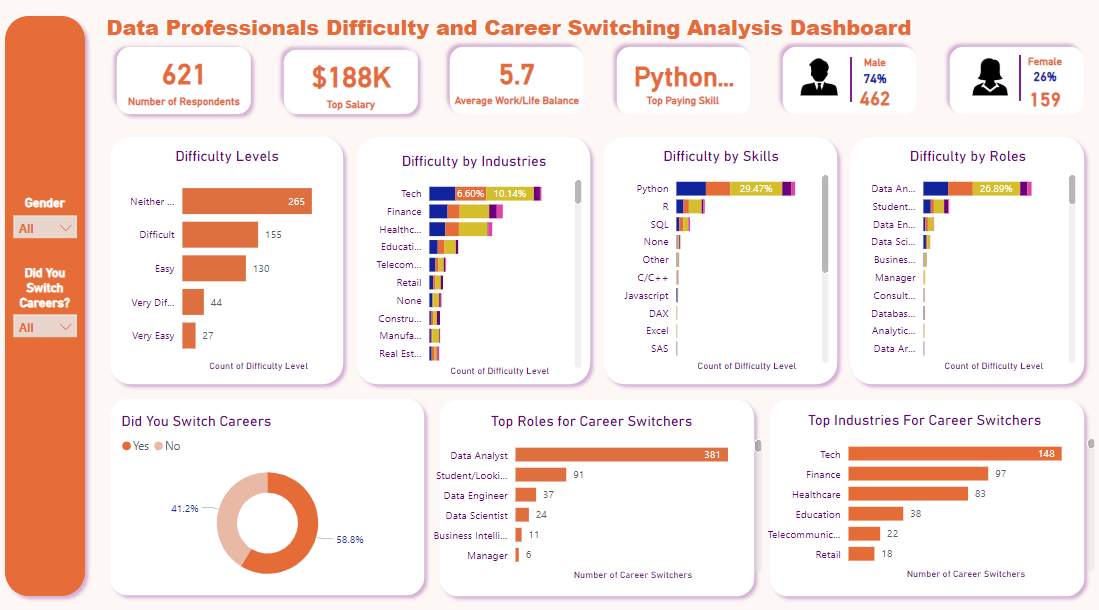

This screenshot's page, from the dashboard's own definition file:
{"tool":"powerbi","page":{"name":"Difficulty and Career Switching Analysis","canvas":[1280,720],"ordinal":2},"visuals":[{"type":"shape","box":[0,15,111.1,689.9],"z":0},{"type":"shape","box":[121.5,155.1,288.2,304.4],"z":1000},{"type":"shape","box":[121.5,458.4,382,245.4],"z":2000},{"type":"textbox","box":[121.5,15,955,44],"z":3000},{"type":"shape","box":[503.5,459.5,382,245.4],"z":4000},{"type":"shape","box":[885.5,459.5,382,245.4],"z":5000},{"type":"group","id":"g1","title":"Group 2","box":[130.2,50.8,173.2,96],"z":6000},{"type":"group","id":"g2","title":"Group 2","box":[322.9,50.8,173.2,96],"z":7000},{"type":"shape","box":[515.6,50.8,173.2,96.4],"z":8000},{"type":"shape","box":[708.4,50.8,173.2,96.4],"z":9000},{"type":"textbox","box":[139.3,108.1,155,37.8],"z":9000,"group":"g3"},{"type":"shape","box":[901.1,50.8,173.2,96.4],"z":10000},{"type":"shape","box":[1093.8,50.8,173.2,96.4],"z":11000},{"type":"card","title":"Number of Respondents","fields":{"Values":["Measures Table.top salary"]},"box":[345.1,63.8,130.2,58.6],"z":12000},{"type":"card","title":"Number of Respondents","fields":{"Values":["Measures Table.Average work/life balance"]},"box":[536.5,59.9,130.2,58.6],"z":13000},{"type":"card","title":"Number of Respondents","fields":{"Values":["Measures Table.Top paying skill"]},"box":[730.4,62.5,129.6,57.9],"z":14000},{"type":"shape","box":[130.2,54.4,173.2,89.9],"z":14500,"group":"g1"},{"type":"card","title":"Number of Respondents","fields":{"Values":["Measures Table.Number of respondents"]},"box":[152.3,59.9,130.2,58.6],"z":15000,"group":"g3"},{"type":"card","title":"Number of Respondents","fields":{"Values":["Measures Table.Number of male respondents"]},"box":[987.4,94.9,57.9,48.6],"z":15000},{"type":"shape","box":[130.2,50.8,173.2,96],"z":16000,"group":"g1"},{"type":"shape","box":[322.9,50.8,173.2,96],"z":16000,"group":"g2"},{"type":"group","id":"g3","title":"Group 1","box":[139.3,59.9,155,85.9],"z":16000},{"type":"shape","box":[322.9,54.4,173.2,89.9],"z":16500,"group":"g2"},{"type":"textbox","box":[332,112,155,37.8],"z":17000},{"type":"textbox","box":[515.1,107.7,173.6,38.2],"z":18000},{"type":"textbox","box":[716.2,108.1,155,37.8],"z":19000},{"type":"textbox","box":[986.2,63.7,60.2,32.4],"z":20000},{"type":"card","fields":{"Values":["Measures Table.% male"]},"box":[988.6,77.6,55.6,41.7],"z":21000},{"type":"image","box":[920.3,68.3,63.7,53.2],"z":22000},{"type":"shape","box":[952.7,71.8,71.8,52.1],"z":23000},{"type":"card","fields":{"Values":["Measures Table.% female"]},"box":[1185.5,75.6,55.4,41.6],"z":24000},{"type":"textbox","box":[1183,63,60.5,32.8],"z":25000},{"type":"shape","box":[1148.3,69.5,71.8,53.2],"z":26000},{"type":"card","title":"Number of Respondents","fields":{"Values":["Measures Table.Number of female respondents"]},"box":[1184.3,95.7,58,49.1],"z":27000},{"type":"image","box":[1118.2,68.3,62.5,53.2],"z":28000},{"type":"barChart","title":"Top Roles for Career Switchers","fields":{"Y":["CountNonNull(Data Professional Survey.Q1 - Which Title Best Fits your Current Role?)"],"Category":["Data Professional Survey.Q1 - Which Title Best Fits your Current Role?"]},"box":[486.2,482.7,404,199.1],"z":29000},{"type":"slicer","fields":{"Values":["Data Professional Survey.Q9 - Male/Female?"]},"box":[9.3,245.4,92.6,35.9],"z":30000},{"type":"textbox","box":[9.3,226.9,92.6,28.9],"z":31000},{"type":"donutChart","title":"Did You Switch Careers","fields":{"Y":["CountNonNull(Data Professional Survey.Q2 - Did you switch careers into Data?)"],"Category":["Data Professional Survey.Q2 - Did you switch careers into Data?"]},"box":[138.9,482.7,348.4,209.5],"z":32000},{"type":"barChart","title":"Top Industries For Career Switchers","fields":{"Category":["Data Professional Survey.Q4 - What Industry do you work in?"],"Y":["CountNonNull(Data Professional Survey.Q4 - What Industry do you work in?)"]},"box":[871.6,481.5,404,199.1],"z":33000},{"type":"slicer","fields":{"Values":["Data Professional Survey.Q2 - Did you switch careers into Data?"]},"box":[9.3,360,92.6,35.9],"z":34000},{"type":"textbox","box":[9.3,307.9,92.6,64.8],"z":35000},{"type":"shape","box":[407.5,155.1,288.2,304.4],"z":36000},{"type":"shape","box":[693.4,155.1,288.2,304.4],"z":37000},{"type":"shape","box":[979.3,155.1,288.2,304.4],"z":38000},{"type":"barChart","title":"Difficulty by Roles","fields":{"Series":["Data Professional Survey.Q7 - How difficult was it for you to break into Data?"],"Category":["Data Professional Survey.Q1 - Which Title Best Fits your Current Role?"],"Y":["CountNonNull(Data Professional Survey.Q7 - How difficult was it for you to break into Data?)"]},"box":[994.3,175.9,259.3,263.9],"z":39000},{"type":"barChart","title":"Difficulty by Industries","fields":{"Series":["Data Professional Survey.Q7 - How difficult was it for you to break into Data?"],"Y":["CountNonNull(Data Professional Survey.Q7 - How difficult was it for you to break into Data?)"],"Category":["Data Professional Survey.Q4 - What Industry do you work in?"]},"box":[422.5,181.7,259.3,263.9],"z":40000},{"type":"barChart","title":"Difficulty by Skills","fields":{"Series":["Data Professional Survey.Q7 - How difficult was it for you to break into Data?"],"Y":["CountNonNull(Data Professional Survey.Q7 - How difficult was it for you to break into Data?)"],"Category":["Data Professional Survey.Q5 - Favorite Programming Language"]},"box":[708.4,175.9,259.3,263.9],"z":41000},{"type":"barChart","title":"Difficulty Levels","fields":{"Category":["Data Professional Survey.Q7 - How difficult was it for you to break into Data?"],"Y":["CountNonNull(Data Professional Survey.Q7 - How difficult was it for you to break into Data?)"]},"box":[136.6,175.9,259.3,263.9],"z":42000}]}

Visuals, with their boxes in screenshot pixels (x1, y1, x2, y2), scaled from the page's 1280x720 canvas onto the 1099x610 screenshot:
shape: l=0, t=13, r=95, b=597
shape: l=104, t=131, r=352, b=389
shape: l=104, t=388, r=432, b=596
textbox: l=104, t=13, r=924, b=50
shape: l=432, t=389, r=760, b=597
shape: l=760, t=389, r=1088, b=597
"Group 2" group: l=112, t=43, r=260, b=124
"Group 2" group: l=277, t=43, r=426, b=124
shape: l=443, t=43, r=591, b=125
shape: l=608, t=43, r=757, b=125
textbox: l=120, t=92, r=253, b=124
shape: l=774, t=43, r=922, b=125
shape: l=939, t=43, r=1088, b=125
"Number of Respondents" card: l=296, t=54, r=408, b=104
"Number of Respondents" card: l=461, t=51, r=572, b=100
"Number of Respondents" card: l=627, t=53, r=738, b=102
shape: l=112, t=46, r=260, b=122
"Number of Respondents" card: l=131, t=51, r=243, b=100
"Number of Respondents" card: l=848, t=80, r=897, b=122
shape: l=112, t=43, r=260, b=124
shape: l=277, t=43, r=426, b=124
"Group 1" group: l=120, t=51, r=253, b=124
shape: l=277, t=46, r=426, b=122
textbox: l=285, t=95, r=418, b=127
textbox: l=442, t=91, r=591, b=124
textbox: l=615, t=92, r=748, b=124
textbox: l=847, t=54, r=898, b=81
card - Measures Table.% male: l=849, t=66, r=897, b=101
image: l=790, t=58, r=845, b=103
shape: l=818, t=61, r=880, b=105
card - Measures Table.% female: l=1018, t=64, r=1065, b=99
textbox: l=1016, t=53, r=1068, b=81
shape: l=986, t=59, r=1048, b=104
"Number of Respondents" card: l=1017, t=81, r=1067, b=123
image: l=960, t=58, r=1014, b=103
"Top Roles for Career Switchers" barChart: l=417, t=409, r=764, b=578
slicer - Data Professional Survey.Q9 - Male/Female?: l=8, t=208, r=87, b=238
textbox: l=8, t=192, r=87, b=217
"Did You Switch Careers" donutChart: l=119, t=409, r=418, b=586
"Top Industries For Career Switchers" barChart: l=748, t=408, r=1095, b=577
slicer - Data Professional Survey.Q2 - Did you switch careers into Data?: l=8, t=305, r=87, b=335
textbox: l=8, t=261, r=87, b=316
shape: l=350, t=131, r=597, b=389
shape: l=595, t=131, r=843, b=389
shape: l=841, t=131, r=1088, b=389
"Difficulty by Roles" barChart: l=854, t=149, r=1076, b=373
"Difficulty by Industries" barChart: l=363, t=154, r=585, b=378
"Difficulty by Skills" barChart: l=608, t=149, r=831, b=373
"Difficulty Levels" barChart: l=117, t=149, r=340, b=373
